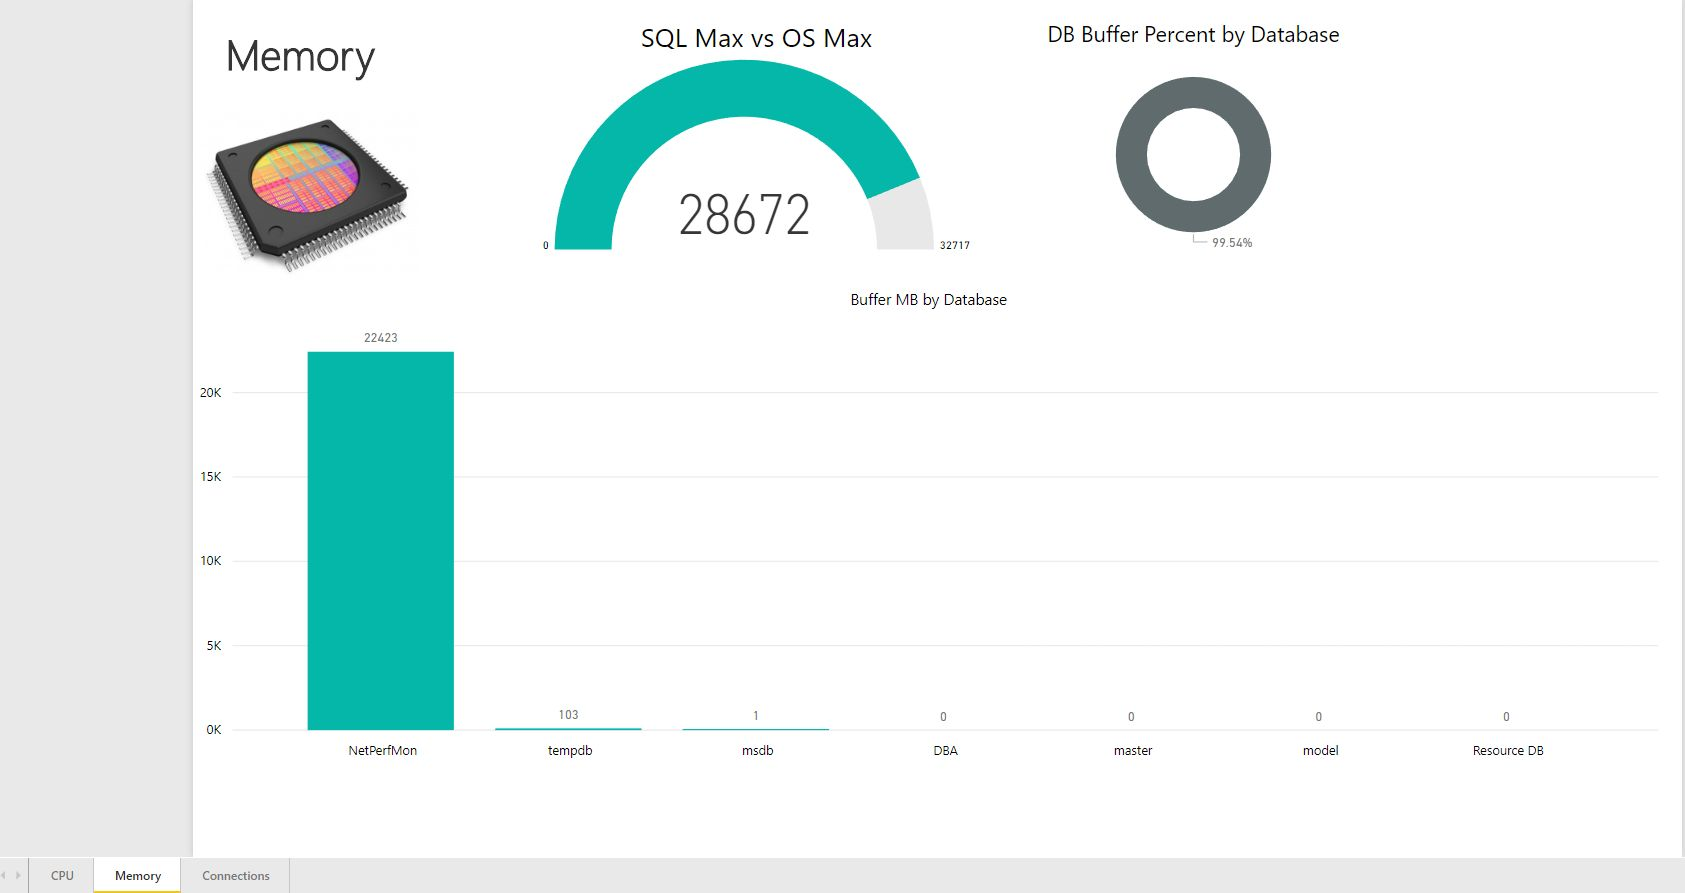

This screenshot's page, from the dashboard's own definition file:
{"tool":"powerbi","page":{"name":"Memory","canvas":[1280,720],"ordinal":2},"visuals":[{"type":"columnChart","fields":{"Category":["MemoryByDB.Database"],"Y":["Sum(MemoryByDB.db_buffer_MB)"]},"box":[0,232,1264,408],"z":1},{"type":"donutChart","fields":{"Series":["MemoryByDB.Database"],"Y":["Sum(MemoryByDB.db_buffer_percent)"]},"box":[680,0,360,208],"z":2},{"type":"gauge","fields":{"Y":["Sum(ConfigMemory.value)"]},"box":[280,0,408,208],"z":4},{"type":"image","box":[0,72,200,160],"z":4},{"type":"textbox","box":[0,0,184,80],"z":8}]}

Visuals, with their boxes on the page's 1280x720 design canvas (x1, y1, x2, y2). These are canvas units, not pixel positions in the 1685x893 screenshot, which may show the page scaled, cropped or inside an application window:
columnChart - MemoryByDB.Database x Sum(MemoryByDB.db_buffer_MB): x1=0 y1=232 x2=1264 y2=640
donutChart - MemoryByDB.Database x Sum(MemoryByDB.db_buffer_percent): x1=680 y1=0 x2=1040 y2=208
gauge - Sum(ConfigMemory.value): x1=280 y1=0 x2=688 y2=208
image: x1=0 y1=72 x2=200 y2=232
textbox: x1=0 y1=0 x2=184 y2=80
